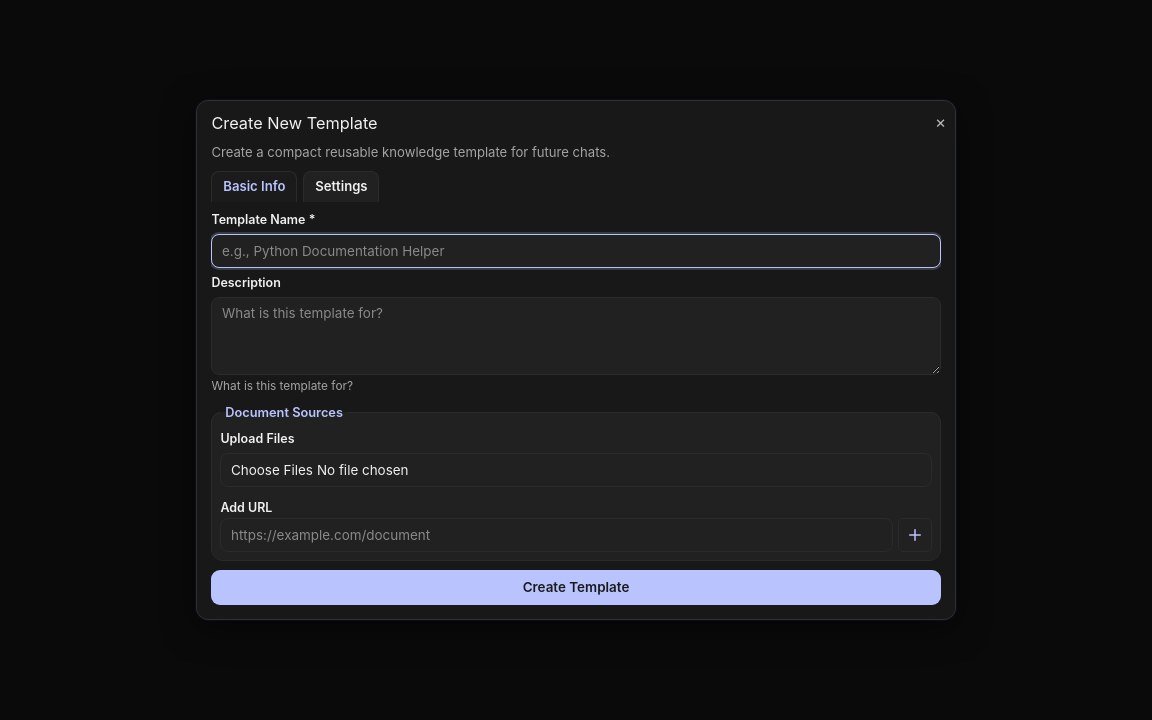
TemplateBuilder — tabs › switches to Settings tab on click
Click the button "Settings" at (341, 186), box [303, 170, 379, 202]
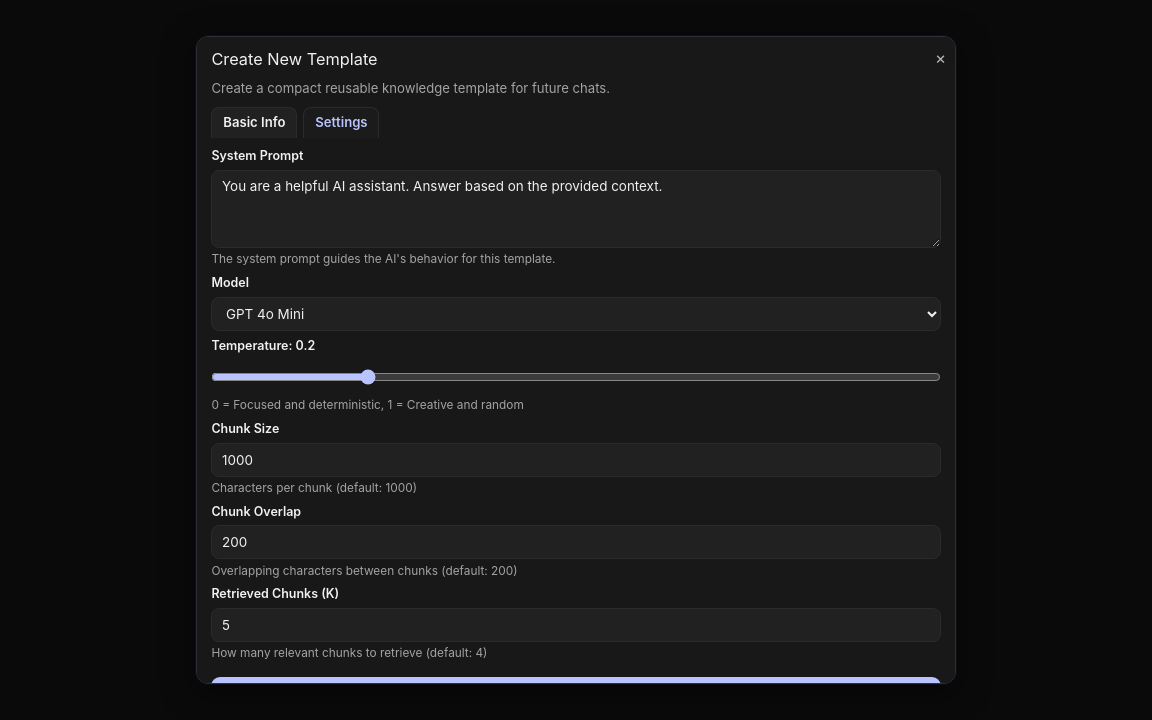
Expected: the text box labelled "System Prompt" is shown, [211, 170, 941, 248]
